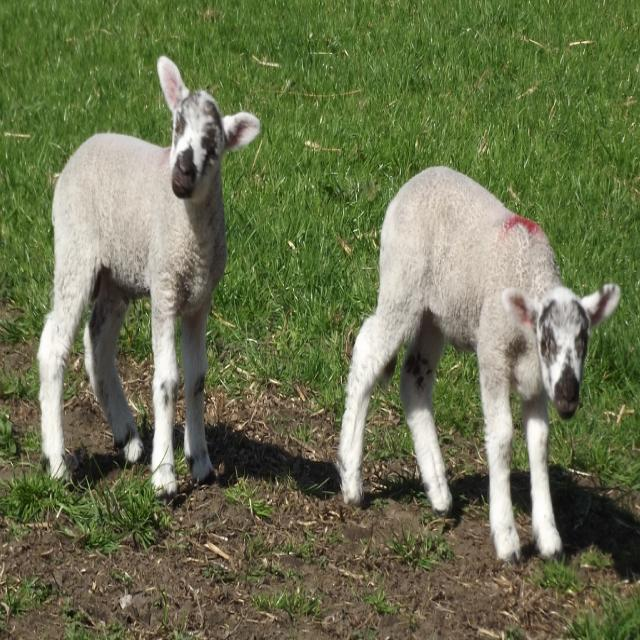Sheep: (336, 166, 621, 564), (37, 55, 261, 501)
